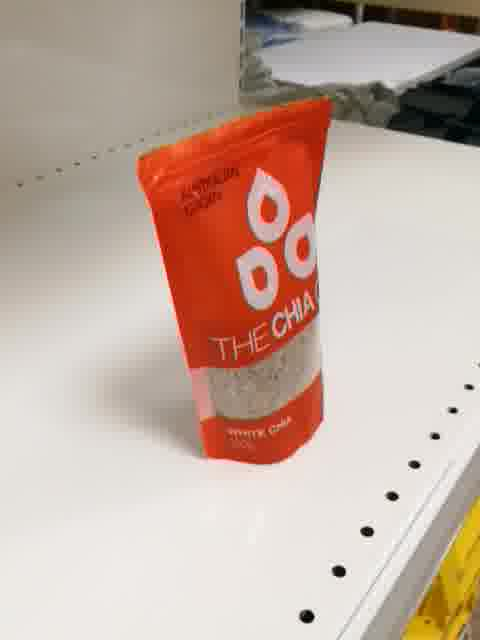whitechia: (137, 93, 337, 468)
